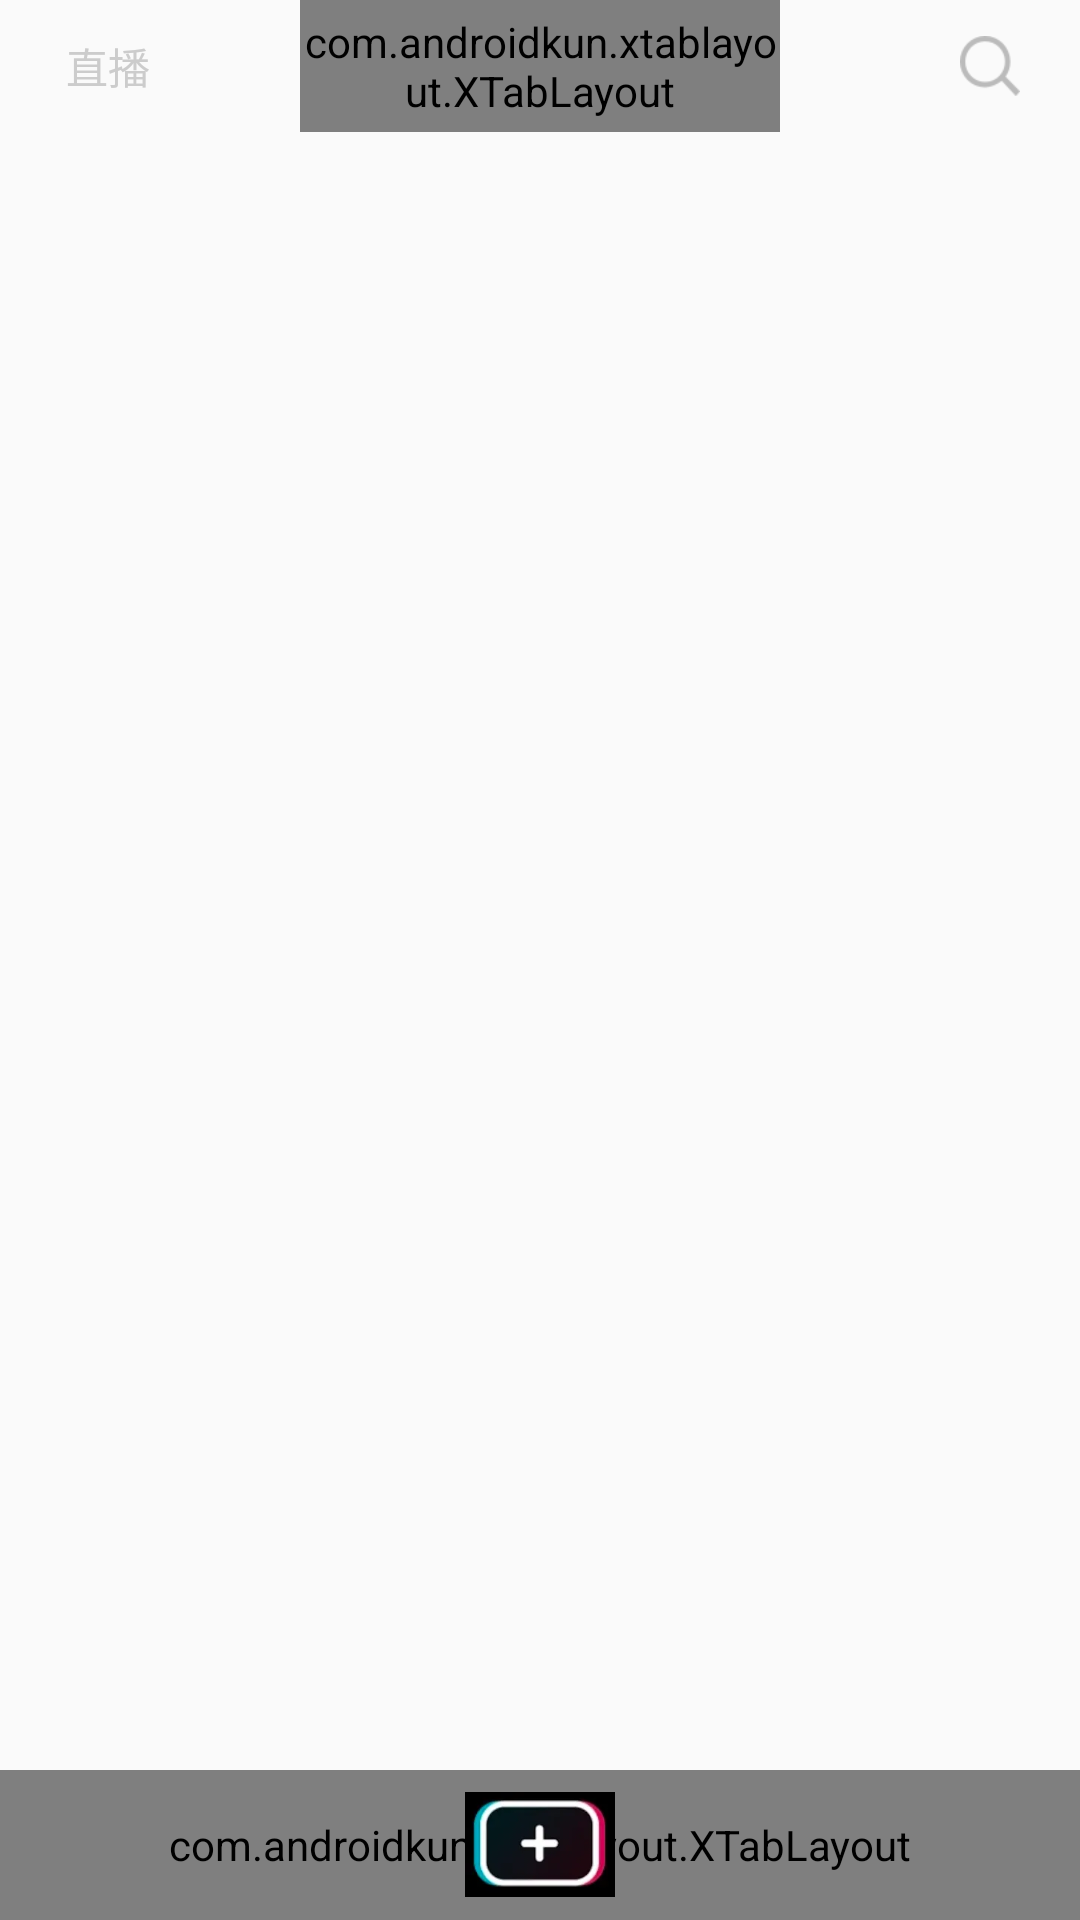

Point at icon controls on the screen. Image size 1080px×1920px, points as point (x, y).
search: point (990, 66)
